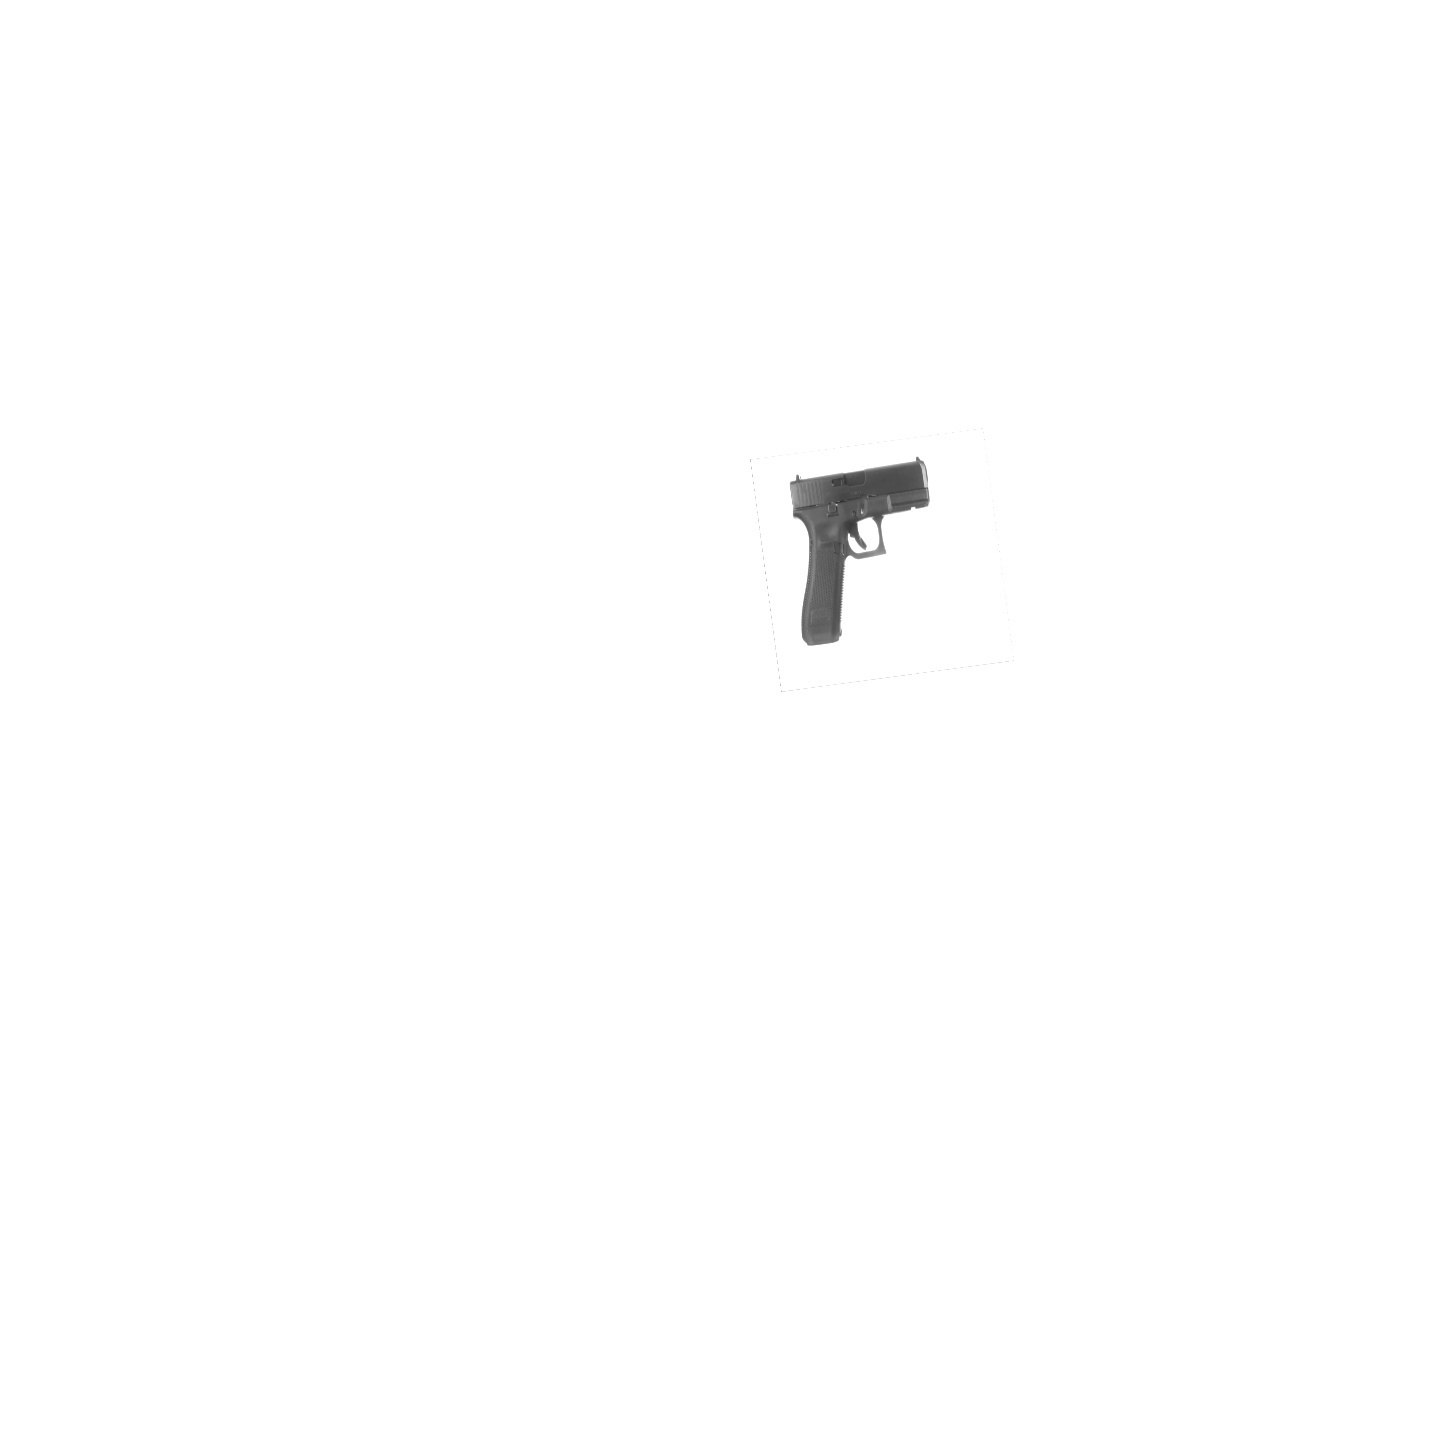gun: (787, 460, 932, 651)
